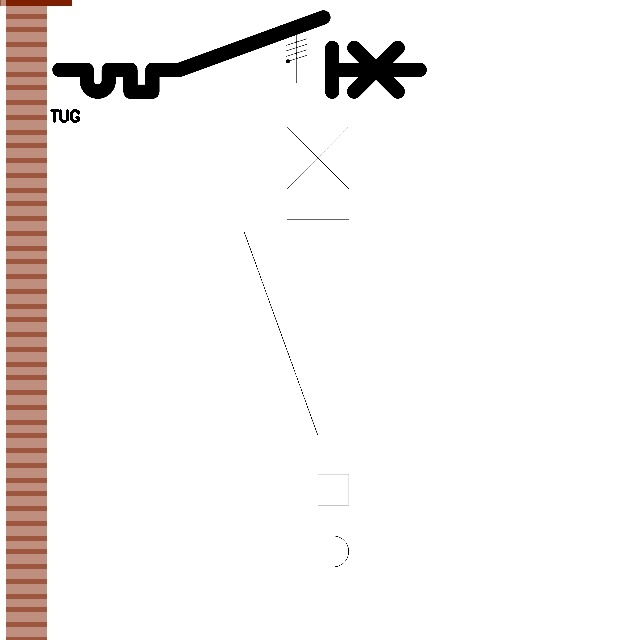interruptor_termomagnetico: (231, 82, 362, 618), (50, 8, 429, 101)
